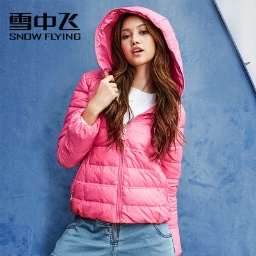face: (104, 12, 175, 99)
